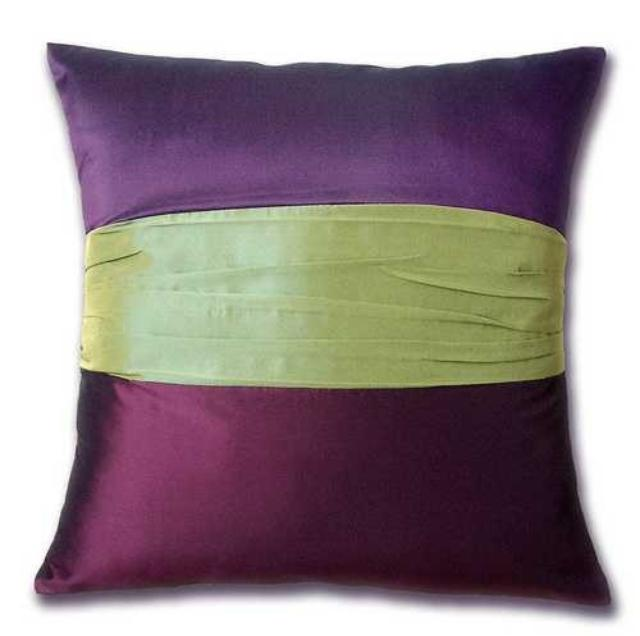pillow: (32, 40, 614, 607)
